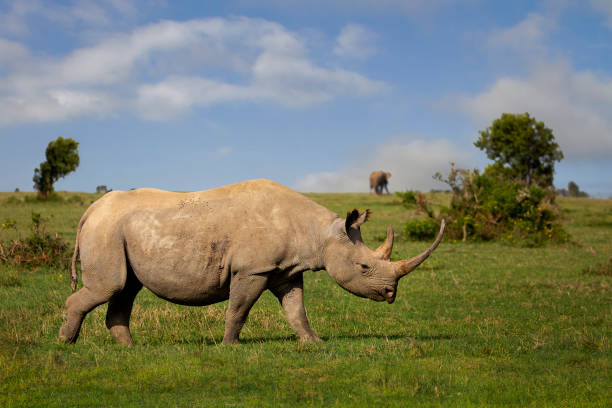rhino: (313, 191, 465, 319)
